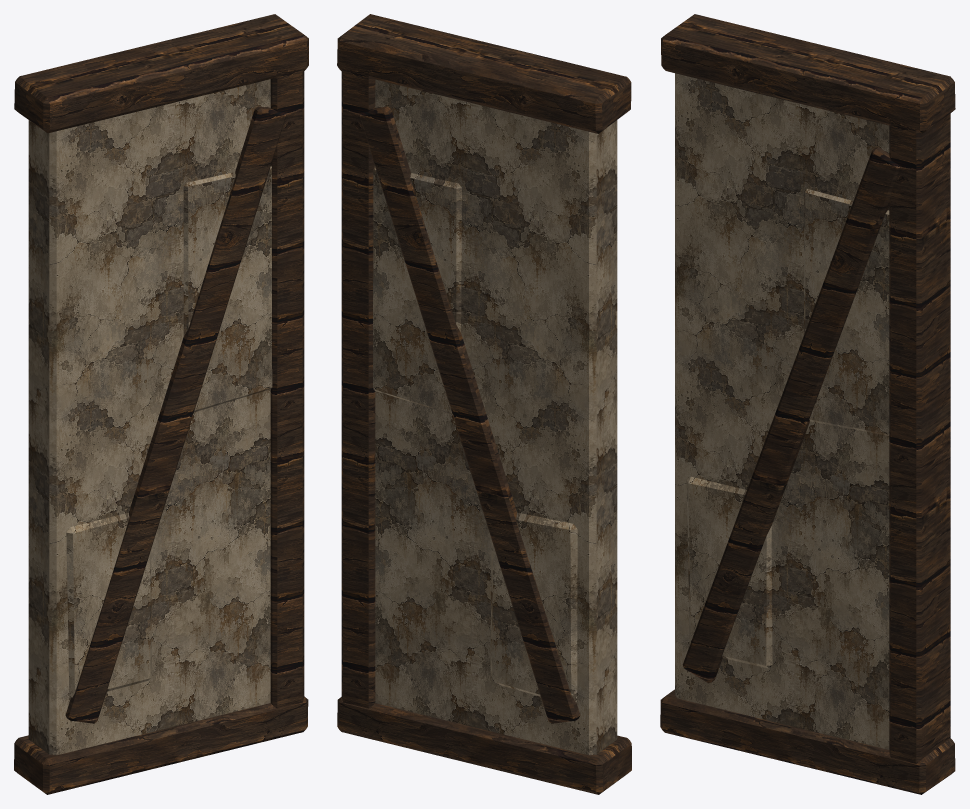
File: wall_plaster_b.glb
The picture shows the model from 3 angles, left to right: view 1: azimuth 30°, elevation 25°; view 2: azimuth 150°, elevation 25°; view 3: azimuth 330°, elevation 25°; orthographic projection.
Parts seen in each view (by area): view 1: wall_plaster_b; view 2: wall_plaster_b; view 3: wall_plaster_b.
Part boxes in pixels (x1=…): wall_plaster_b: x1=14, y1=14, x2=308, y2=794; wall_plaster_b: x1=337, y1=14, x2=631, y2=794; wall_plaster_b: x1=660, y1=14, x2=955, y2=794.
Size of the model in its own units: 0.9983 by 2.5 by 0.23.
2 materials, 2 textured.
